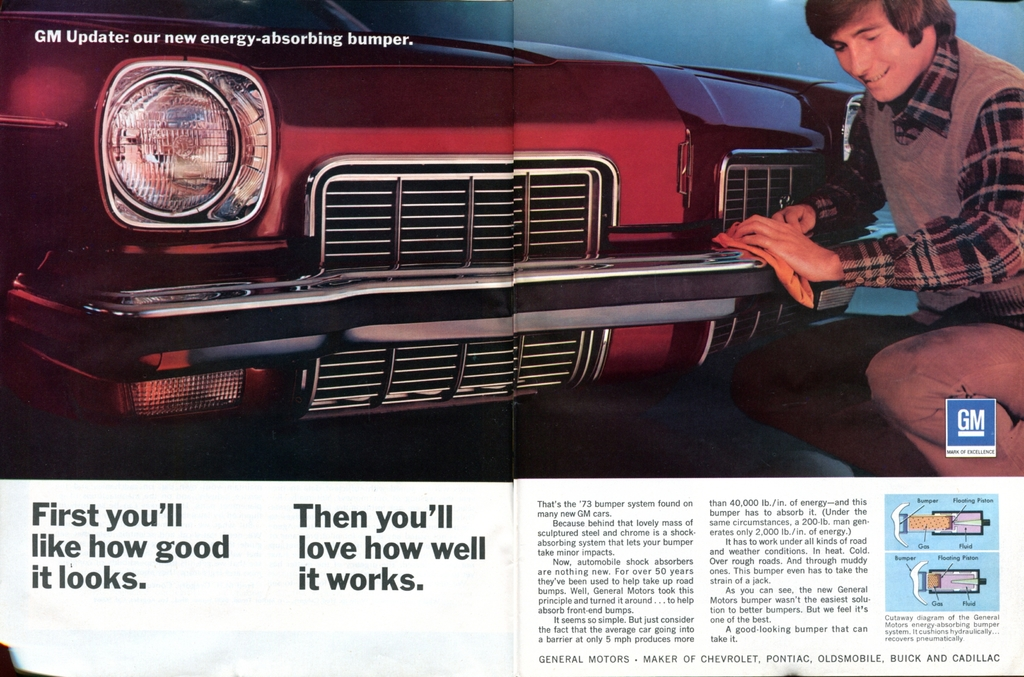cars: (0, 0, 885, 427)
